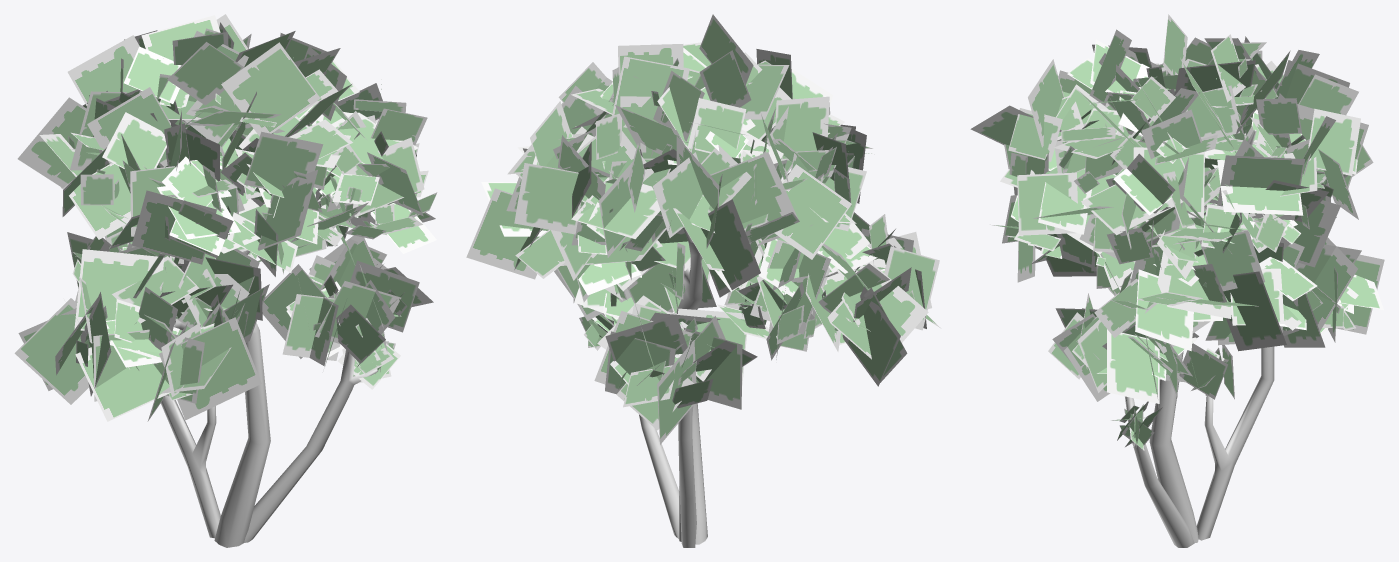
File: m_TreeSmall1.fbx
The picture shows the model from 3 angles, left to right: view 1: azimuth 30°, elevation 25°; view 2: azimuth 150°, elevation 25°; view 3: azimuth 270°, elevation 25°; orthographic projection. The views are drawn at different scales.
Parts seen in each view (by area): view 1: TreeSmall; view 2: TreeSmall; view 3: TreeSmall.
Part boxes in pixels (x1,y1,x2,y2): TreeSmall: [14, 14, 437, 547]; TreeSmall: [466, 14, 941, 547]; TreeSmall: [970, 14, 1384, 547].
Size of the model in its own units: 1029 by 1202 by 875.
